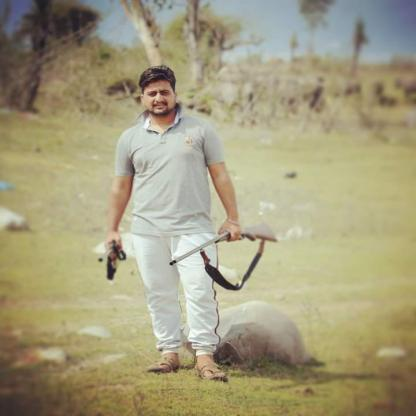rifle: (168, 220, 279, 266), (96, 238, 128, 263)
